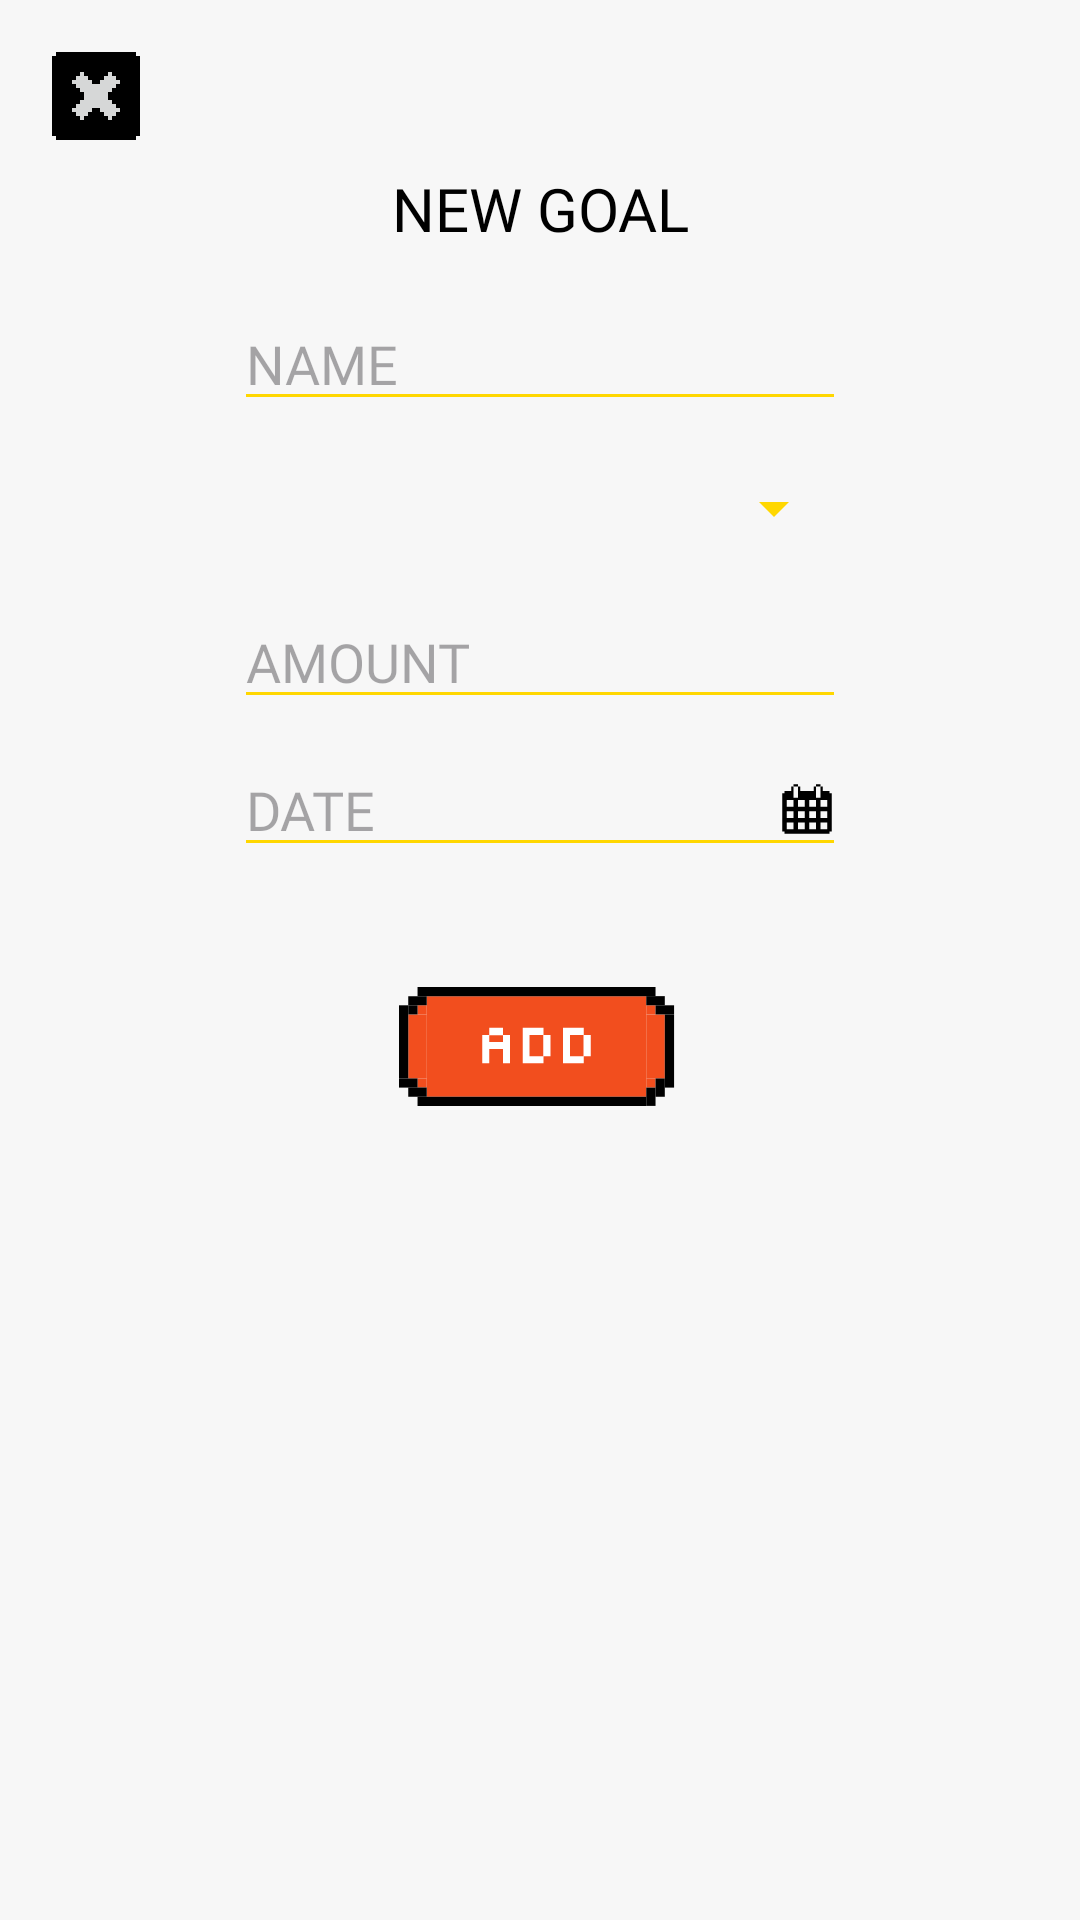

Icons on this 1080x1920 Android screen, each with its box as [x1, y1, x2, y2]:
window close: [52, 52, 140, 140]
